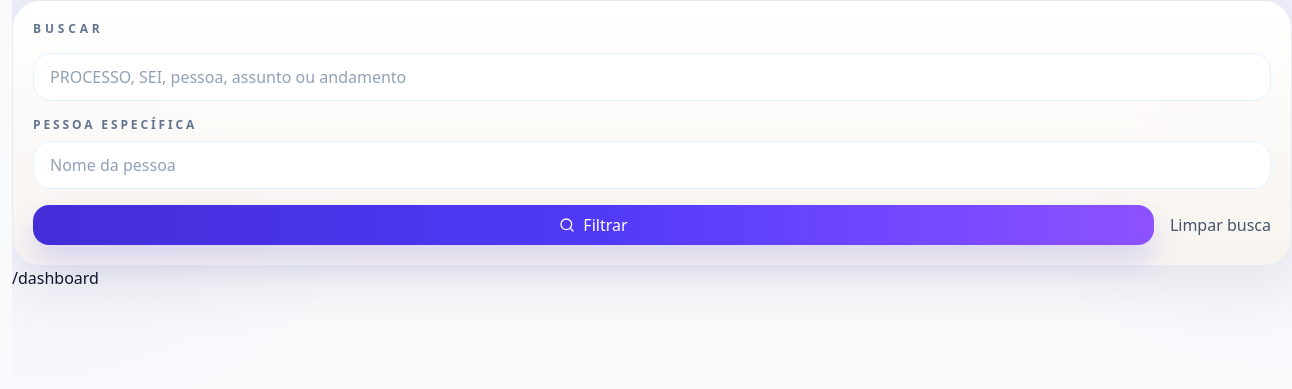
Test: QuickProcessSearch › limpa apenas a pessoa selecionada sem apagar a busca principal
Type "sei-123" into the field named "Buscar processo rapido".
click(652, 77); type("sei-123")  # box [33,53,1271,101]
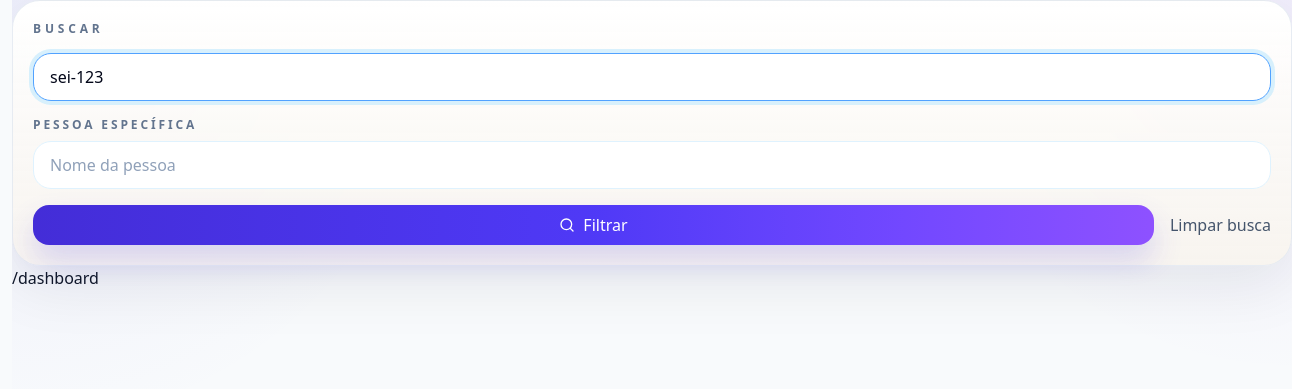
Type "Maria" into the field named "Buscar pessoa especifica".
click(652, 165); type("Maria")  # box [33,141,1271,189]
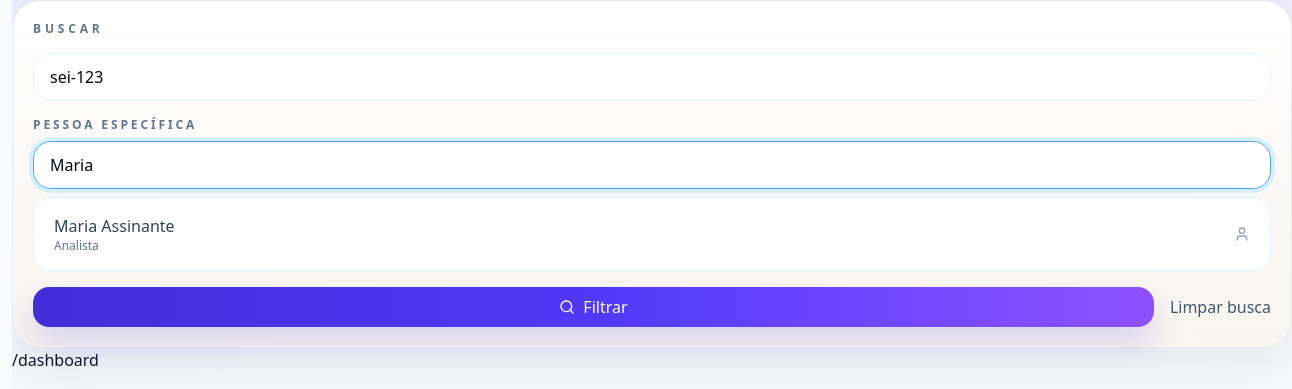
Click the button "Maria Assinante Analista".
click(114, 226)  # box [42,206,1262,262]
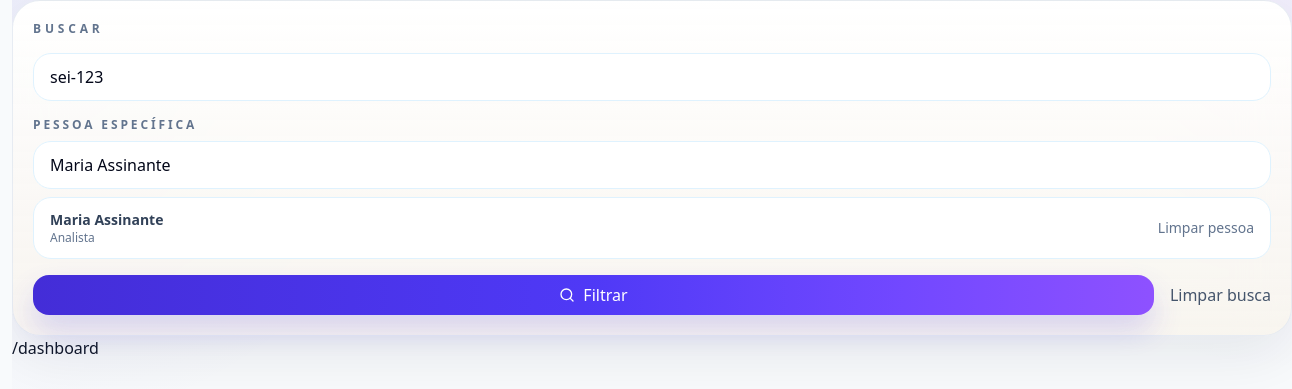
Click the button "Limpar pessoa".
click(1206, 228)  # box [1158,218,1254,238]
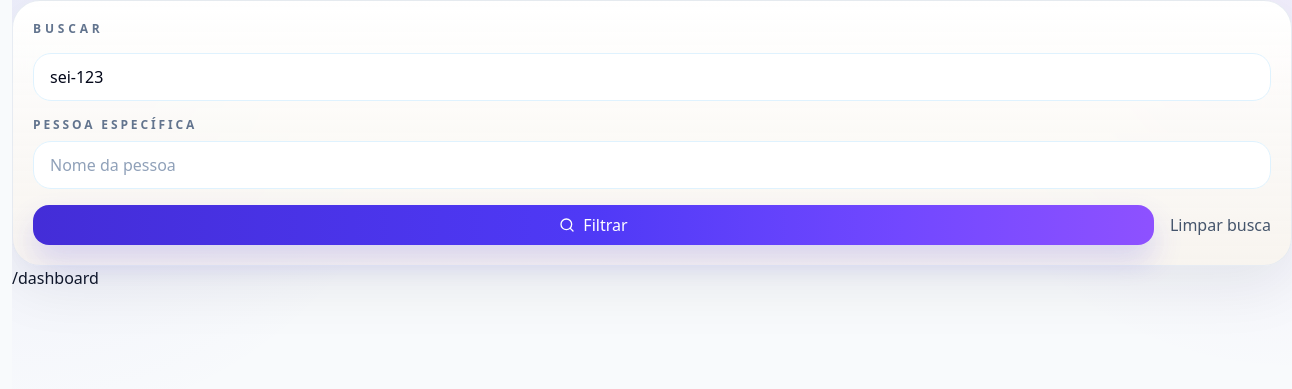
Result: the field named "Buscar pessoa especifica" is empty at [33,141,1271,189]
Result: the text "Maria Assinante" is gone
